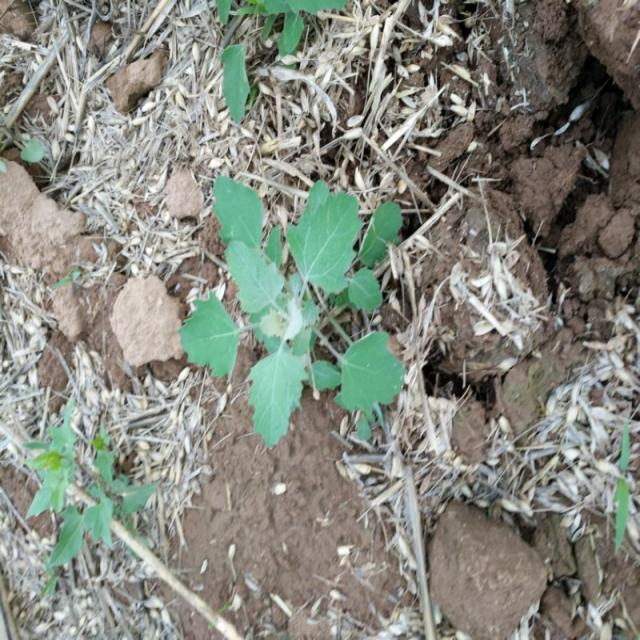goosefoots: (182, 172, 421, 461)
